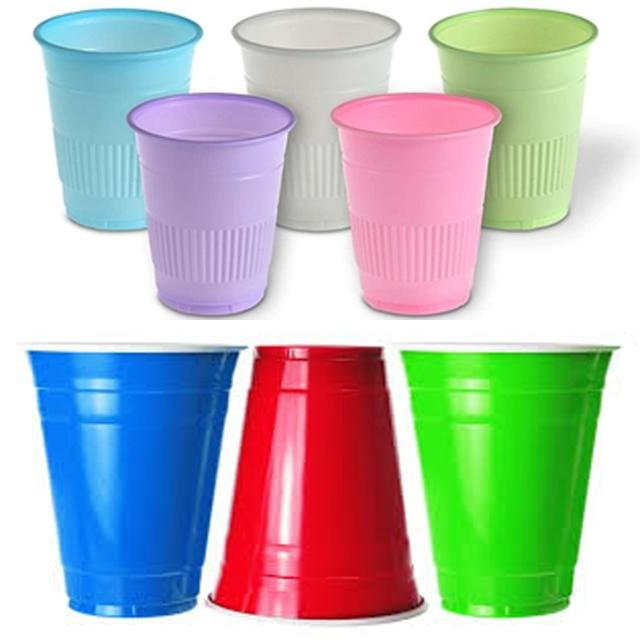Single-Use-Plastic: (20, 342, 240, 617), (211, 346, 422, 619), (402, 349, 612, 617), (232, 8, 401, 231), (128, 92, 295, 315), (331, 94, 500, 314), (429, 9, 598, 229), (34, 9, 202, 229)
